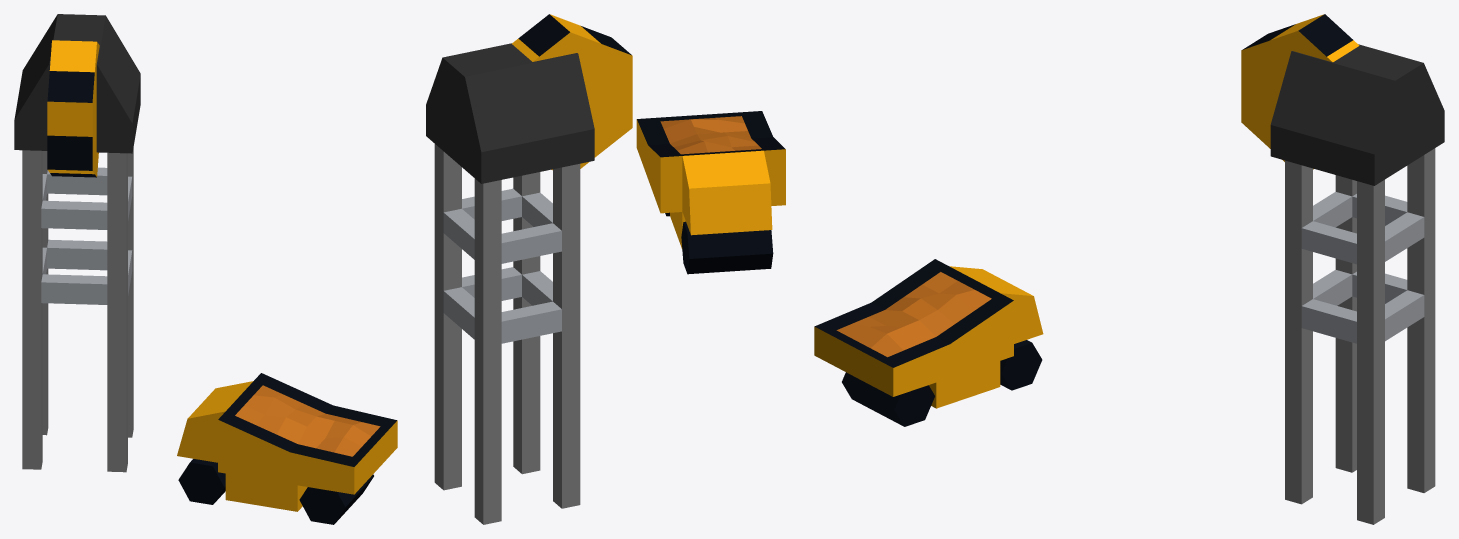
The model's file is Border_10_exploring.fbx.
3 renders of one model, left to right at view 1: azimuth 30°, elevation 25°; view 2: azimuth 150°, elevation 25°; view 3: azimuth 270°, elevation 25°, orthographic. The views are drawn at different scales.
Visible parts, largest first — view 1: Cube.022, Cube.023, Cylinder.010; view 2: Cube.022, Cube.023, Cylinder.010; view 3: Cube.022, Cube.023, Cylinder.010.
Part boxes in pixels (x1,y1,x2,y2): Cube.022: [14, 14, 140, 472]; Cube.023: [177, 373, 397, 524]; Cylinder.010: [47, 40, 99, 177]; Cube.022: [426, 43, 594, 524]; Cube.023: [636, 111, 785, 274]; Cylinder.010: [512, 14, 632, 170]; Cube.022: [1270, 44, 1444, 524]; Cube.023: [814, 259, 1043, 426]; Cylinder.010: [1241, 14, 1359, 169].
Size of the model in its own units: 66.47 by 158 by 197.
